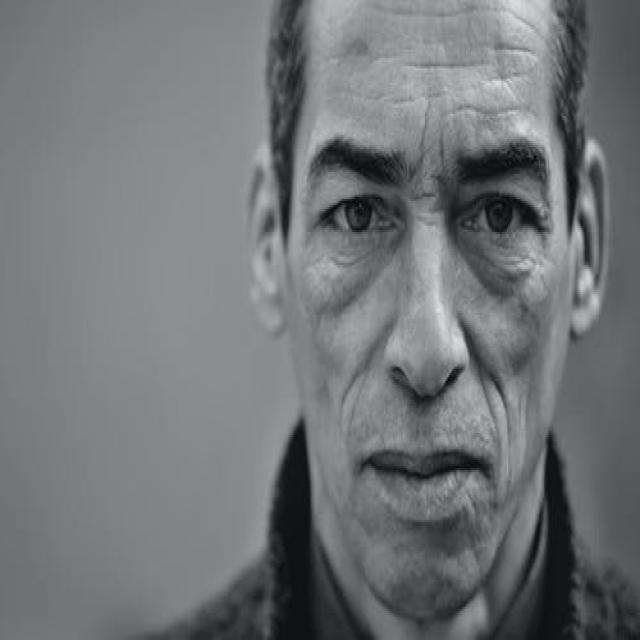Wrinkles: (323, 274, 375, 314), (446, 106, 525, 115), (405, 62, 484, 68), (468, 8, 515, 15), (395, 13, 456, 17), (410, 159, 421, 179), (421, 118, 426, 159), (484, 75, 523, 80), (414, 95, 437, 99), (495, 47, 524, 50), (394, 99, 414, 103), (372, 94, 391, 98), (441, 131, 443, 166), (358, 94, 372, 99), (343, 90, 358, 94), (327, 89, 337, 94)
